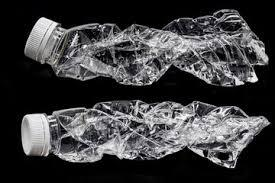Plastic: (6, 9, 272, 93), (14, 100, 272, 172)
